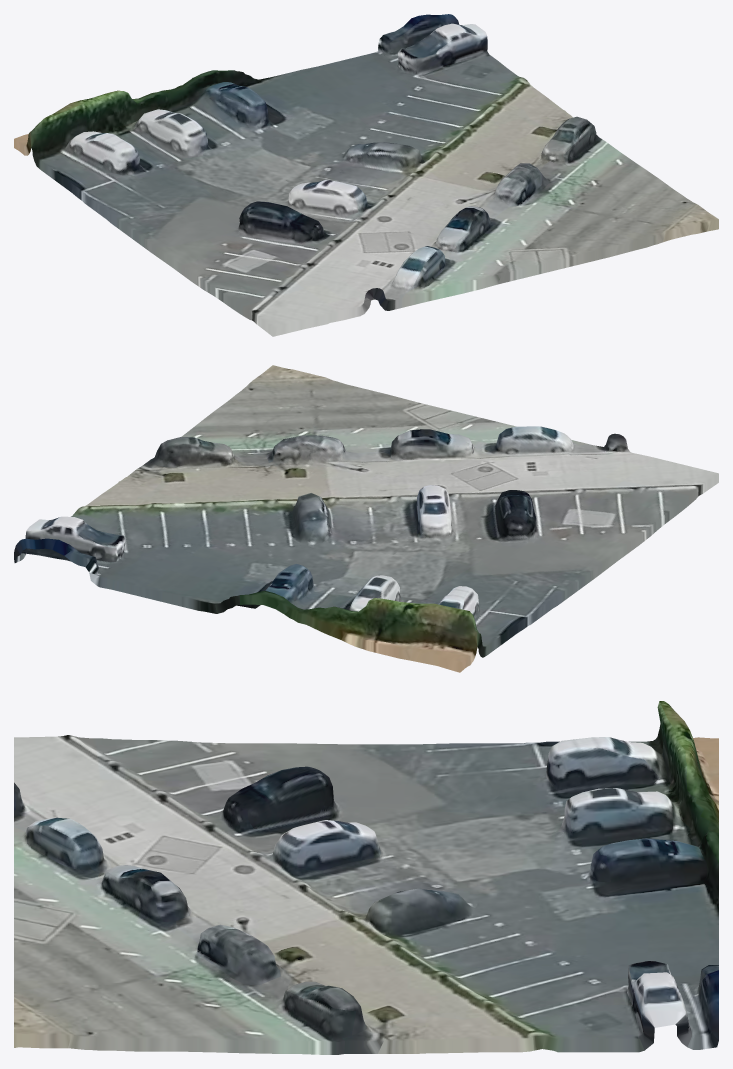
The model's file is z20-167782-405213-h0-yup-uvflip-v3-world.glb.
3 views of the same model, one above another, from view 1: azimuth 30°, elevation 25°; view 2: azimuth 150°, elevation 25°; view 3: azimuth 270°, elevation 25° (orthographic). The views are drawn at different scales.
Size of the model in its own units: 30.16 by 3.24 by 30.32.
Materials: 1 (1 with a texture image).
